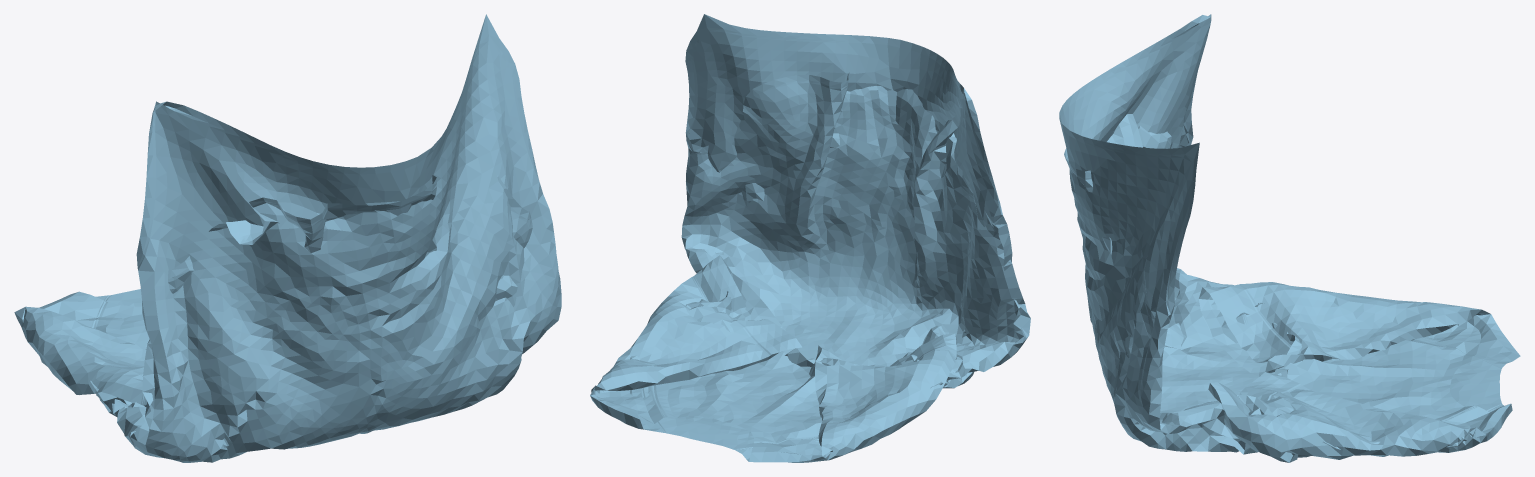
File: frame_11.glb
The picture shows the model from 3 angles, left to right: view 1: azimuth 30°, elevation 25°; view 2: azimuth 150°, elevation 25°; view 3: azimuth 270°, elevation 25°; orthographic projection. The views are drawn at different scales.
Parts seen in each view (by area): view 1: frame_11.obj; view 2: frame_11.obj; view 3: frame_11.obj.
Part boxes in pixels (x1,y1,x2,y2): frame_11.obj: (14, 14, 561, 462); frame_11.obj: (590, 14, 1030, 462); frame_11.obj: (1059, 14, 1520, 462).
Bounding box in the file's own units: 1.15 × 0.9532 × 1.23.
